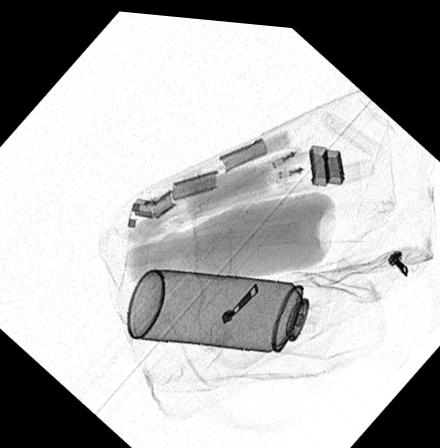Sprayer: (126, 264, 345, 351)
